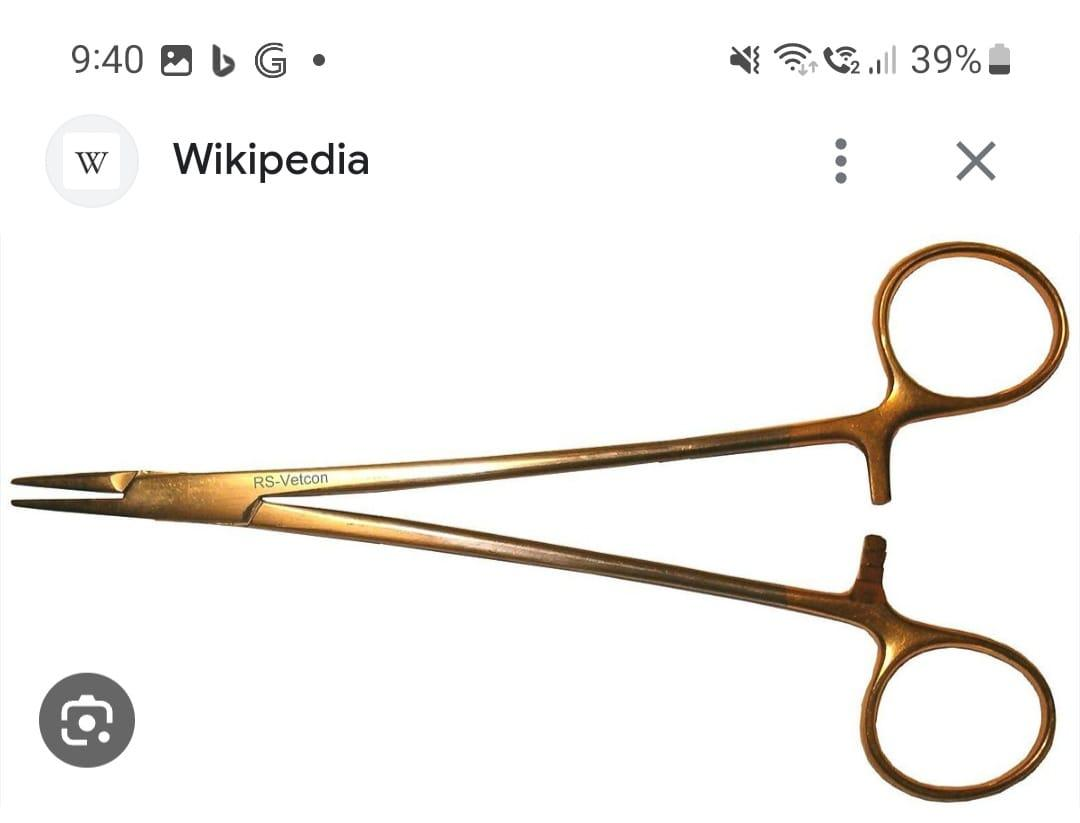Needle Holder: (9, 239, 1064, 796)
